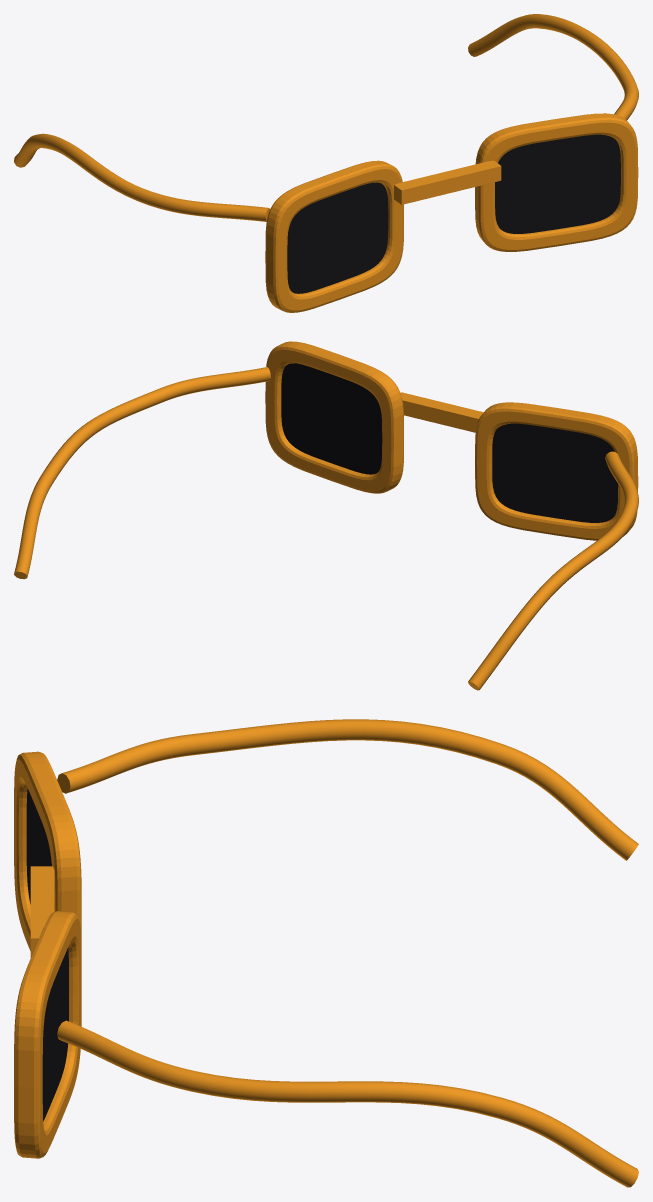
File: lentes.glb
3 views of the same model, one above another, from view 1: azimuth 30°, elevation 25°; view 2: azimuth 150°, elevation 25°; view 3: azimuth 270°, elevation 25° (orthographic). The views are drawn at different scales.
Parts seen in each view (by area): view 1: accesorio_lentes; view 2: accesorio_lentes; view 3: accesorio_lentes.
Boxes of the visible parts, x1,y1,x2,y2 form: accesorio_lentes: (14,14,638,312); accesorio_lentes: (14,341,638,690); accesorio_lentes: (14,719,638,1187).
Bounding box in the file's own units: 0.6605 × 0.1498 × 0.4703.
